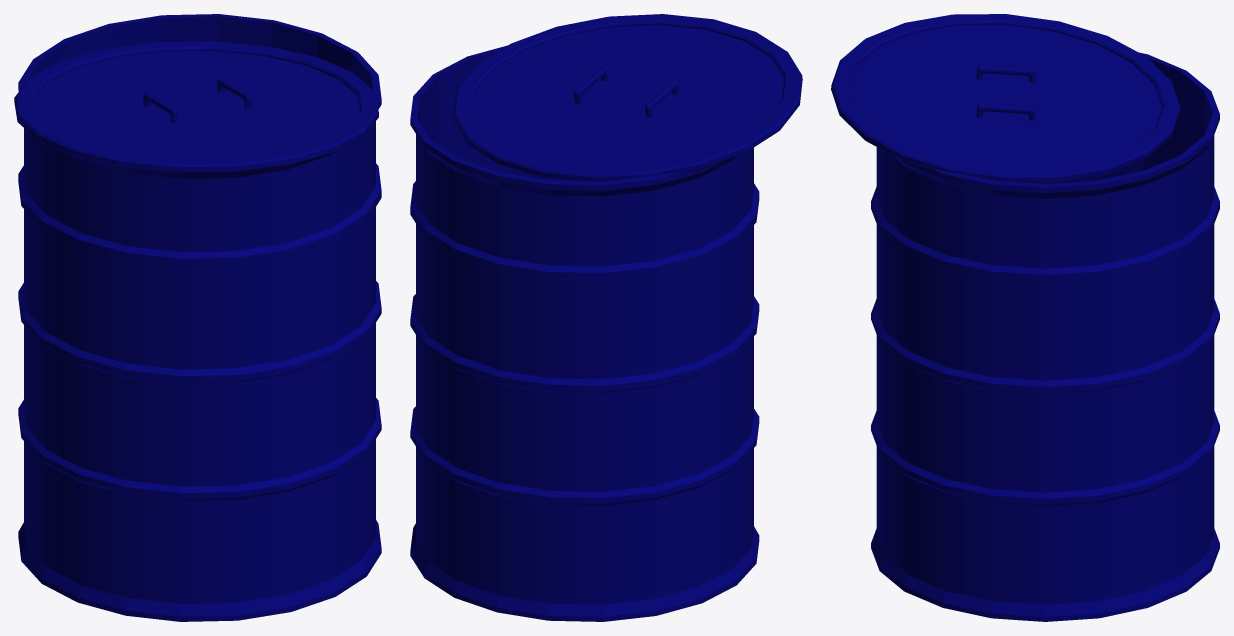
Rendered from Oil Drum_Open Lid.fbx.
3 renders of one model, left to right at view 1: azimuth 30°, elevation 25°; view 2: azimuth 150°, elevation 25°; view 3: azimuth 270°, elevation 25°, orthographic. The views are drawn at different scales.
Parts seen in each view (by area): view 1: pCylinder1, pCylinder5; view 2: pCylinder1, pCylinder5; view 3: pCylinder1, pCylinder5.
Boxes of the visible parts, x1=… form: pCylinder1: x1=18, y1=14, x2=381, y2=621; pCylinder5: x1=14, y1=41, x2=378, y2=173; pCylinder1: x1=410, y1=45, x2=759, y2=621; pCylinder5: x1=453, y1=14, x2=802, y2=181; pCylinder1: x1=871, y1=52, x2=1219, y2=621; pCylinder5: x1=831, y1=14, x2=1180, y2=182.
Size of the model in its own units: 8.11 by 10.86 by 8.39.
